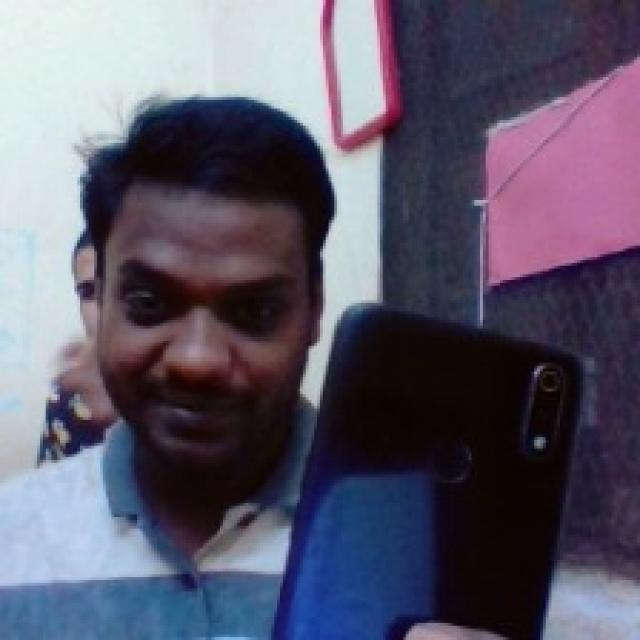Phone: (264, 301, 592, 640)
